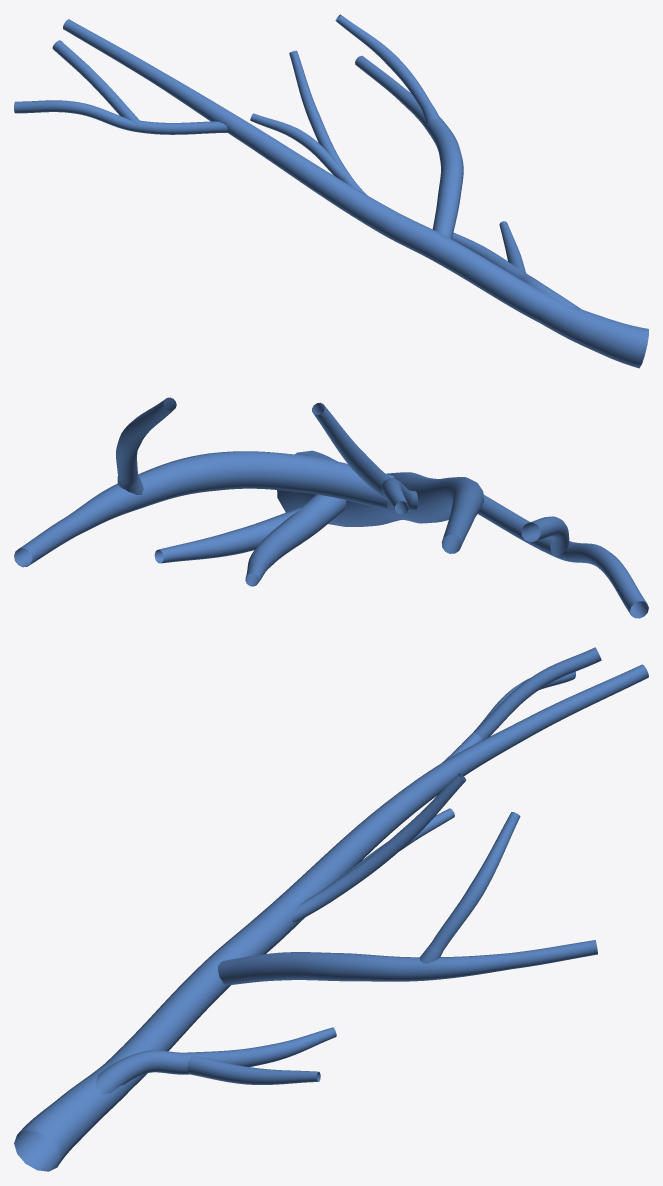
3 views of the same model, one above another, from view 1: azimuth 30°, elevation 25°; view 2: azimuth 150°, elevation 25°; view 3: azimuth 270°, elevation 25° (orthographic). The views are drawn at different scales.
Parts seen in each view (by area): view 1: 右肺底下静脉; view 2: 右肺底下静脉; view 3: 右肺底下静脉.
Boxes of the visible parts, x1,y1,x2,y2 form: 右肺底下静脉: [14, 14, 648, 368]; 右肺底下静脉: [14, 397, 648, 618]; 右肺底下静脉: [14, 647, 648, 1171].
Size of the model in its own units: 0.1211 by 0.0676 by 0.1262.
